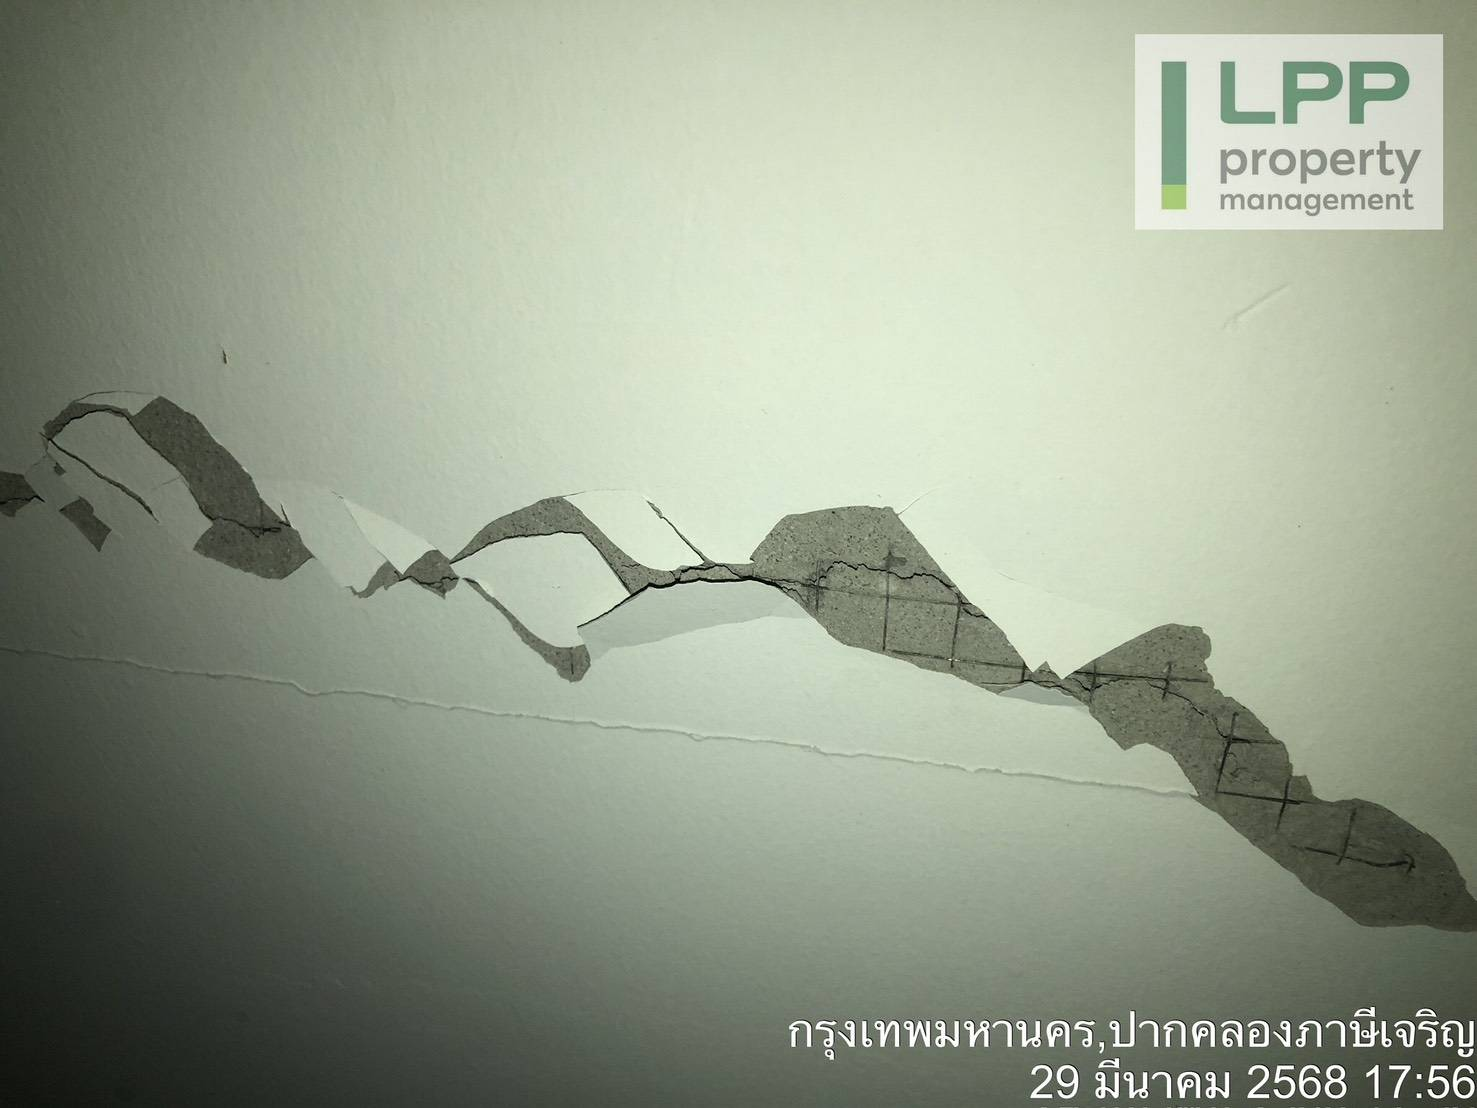Medium: (51, 362, 1251, 786)
